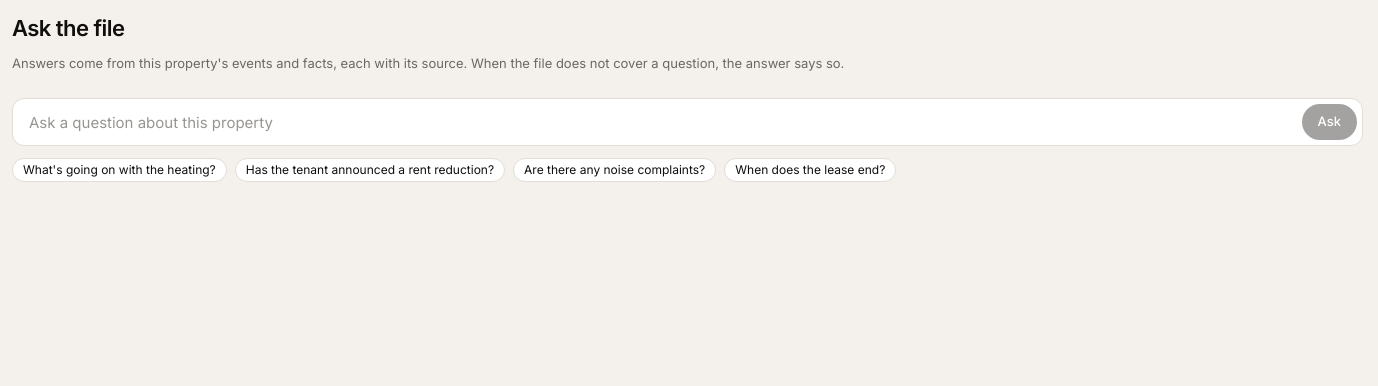
AskPanel › refuses questions about data Keystone does not hold
Type "What is going on?" into the field.
click(688, 122); type("What is going on?")  # box x1=12 y1=98 x2=1363 y2=146
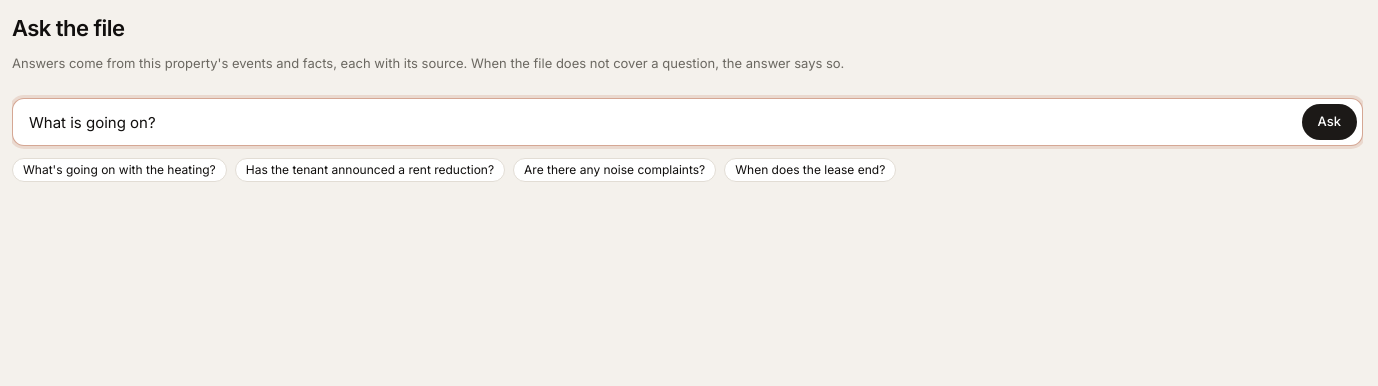
Click the button "Ask".
click(1329, 122)  # box x1=1302 y1=104 x2=1357 y2=140
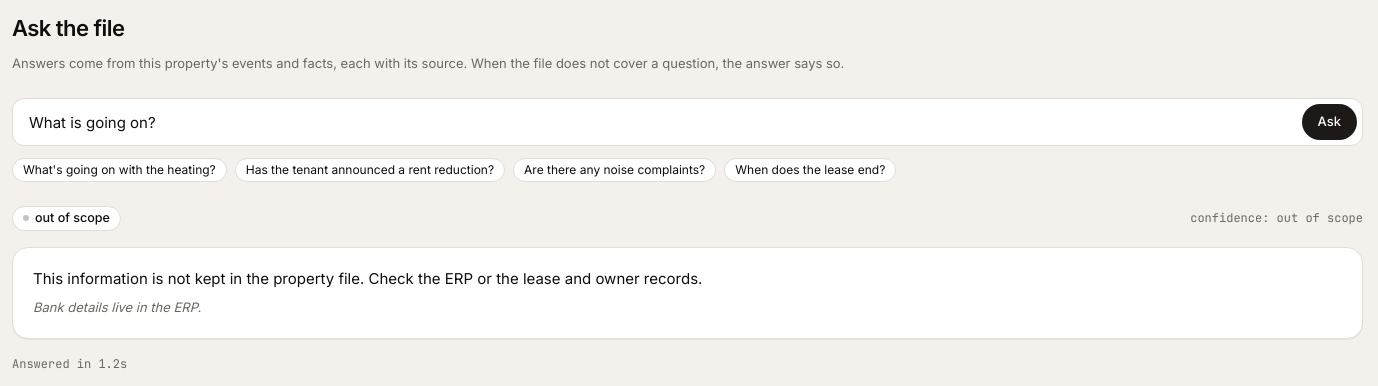
Expected: the text "out of scope" is shown, x1=12 y1=206 x2=121 y2=231
Expected: the text "Bank details live in the ERP." is shown, x1=33 y1=299 x2=201 y2=315
